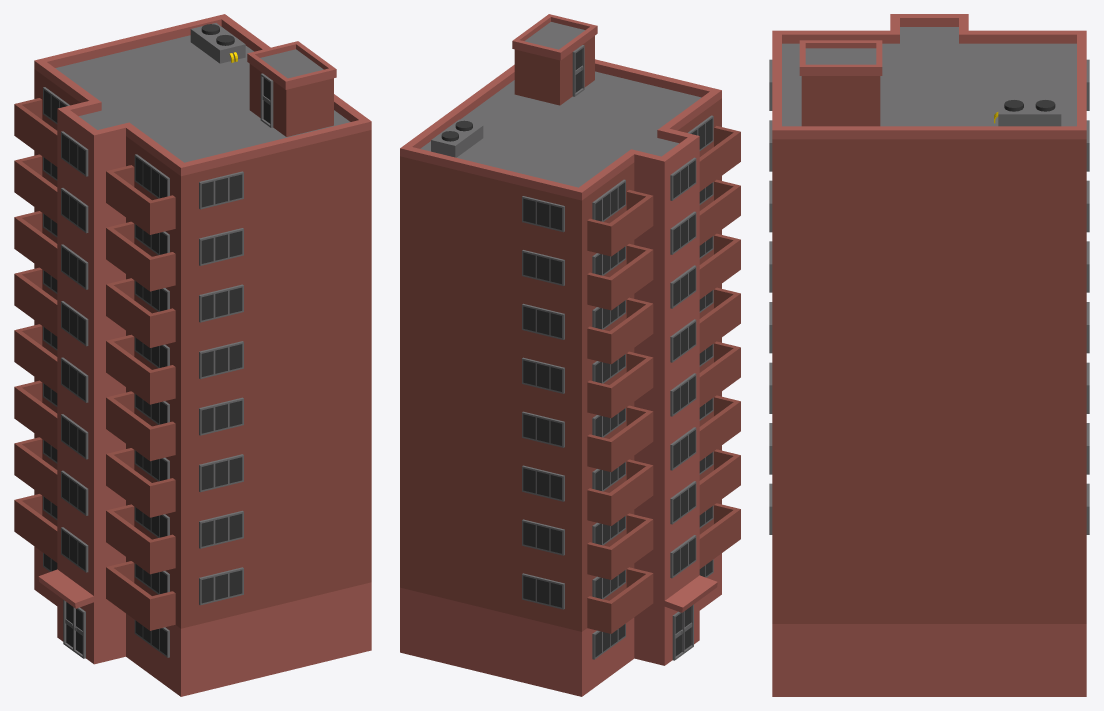
The model's file is House1Big.fbx.
3 views of the same model, side by side, from view 1: azimuth 30°, elevation 25°; view 2: azimuth 150°, elevation 25°; view 3: azimuth 270°, elevation 25° (orthographic). The views are drawn at different scales.
Parts seen in each view (by area): view 1: House1Big; view 2: House1Big; view 3: House1Big.
Part boxes in pixels (box(x1,y1,x2,y2)): House1Big: box(14, 14, 371, 696); House1Big: box(400, 14, 740, 696); House1Big: box(769, 14, 1089, 696).
Size of the model in its own units: 299 by 683 by 320.
Materials: 1 (1 with a texture image).
